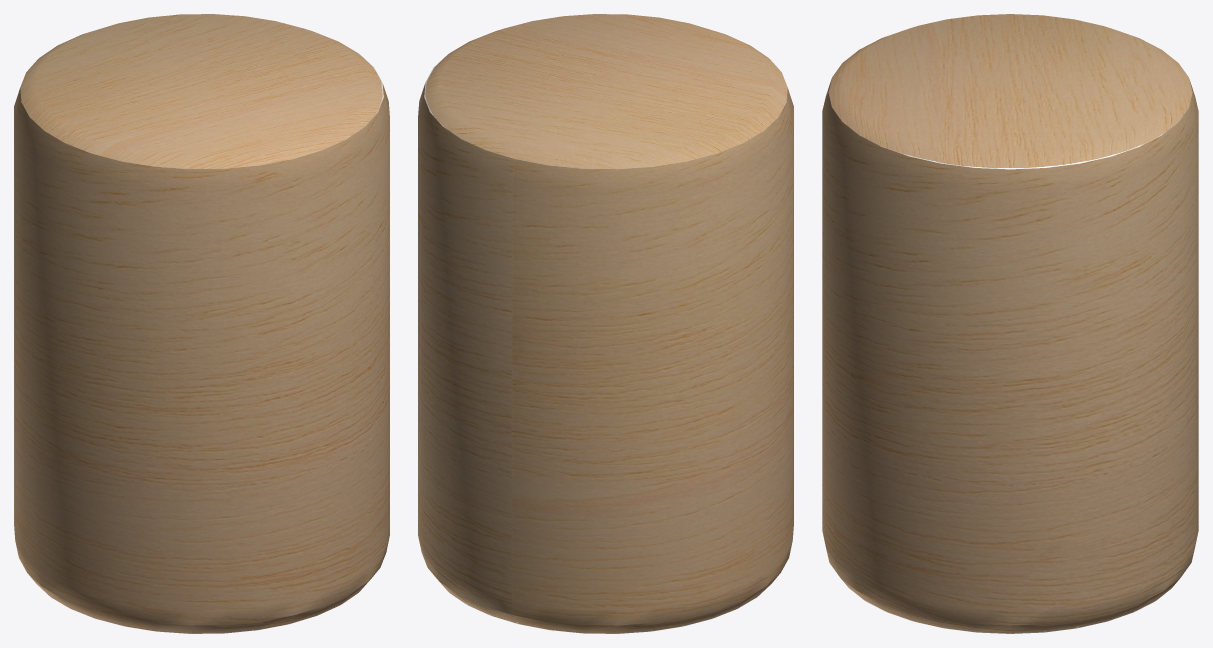
File: block_cylinder.fbx
The picture shows the model from 3 angles, left to right: view 1: azimuth 30°, elevation 25°; view 2: azimuth 150°, elevation 25°; view 3: azimuth 270°, elevation 25°; orthographic projection.
Parts seen in each view (by area): view 1: 円柱; view 2: 円柱; view 3: 円柱.
Boxes of the visible parts, left/top/right/bottom form: 円柱: left=14, top=14, right=389, bottom=633; 円柱: left=418, top=14, right=793, bottom=633; 円柱: left=822, top=14, right=1198, bottom=633.
Bounding box in the file's own units: 1423 × 2003 × 1423.
Materials: 1 (1 with a texture image).
